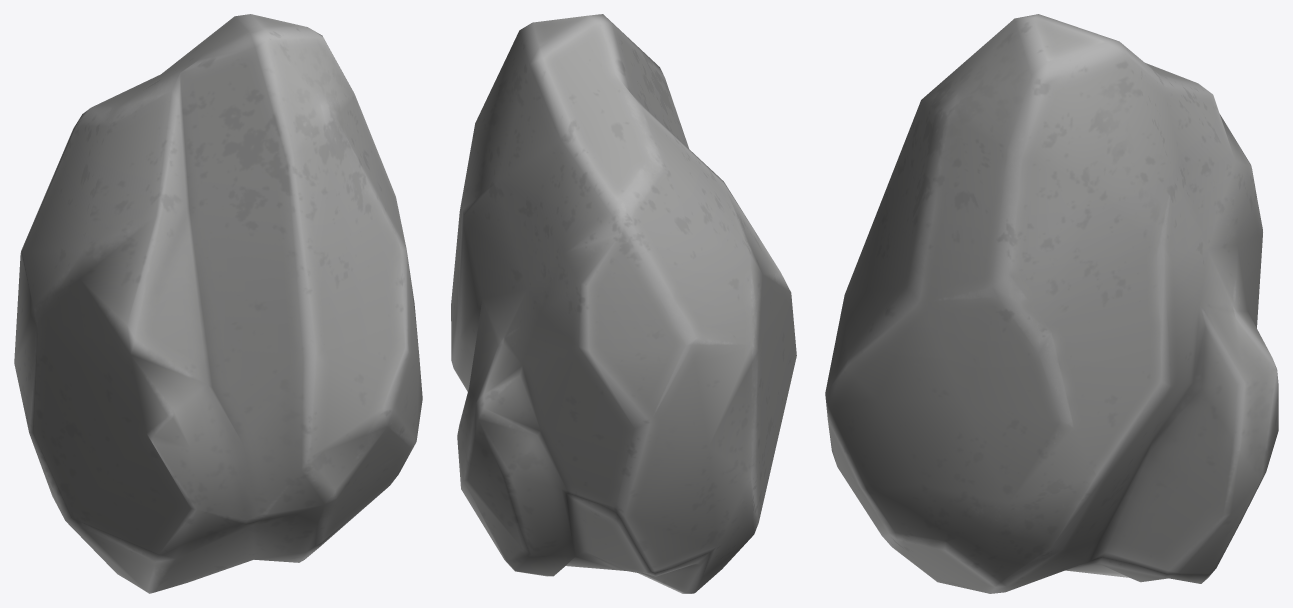
File: Urock04.fbx
3 views of the same model, side by side, from view 1: azimuth 30°, elevation 25°; view 2: azimuth 150°, elevation 25°; view 3: azimuth 270°, elevation 25° (orthographic). The views are drawn at different scales.
Parts seen in each view (by area): view 1: rock04; view 2: rock04; view 3: rock04.
Part boxes in pixels (bbox=[...]): rock04: bbox=[14, 14, 422, 593]; rock04: bbox=[451, 14, 796, 593]; rock04: bbox=[825, 14, 1278, 593].
Size of the model in its own units: 175 by 277 by 188.
Materials: 1 (1 with a texture image).
